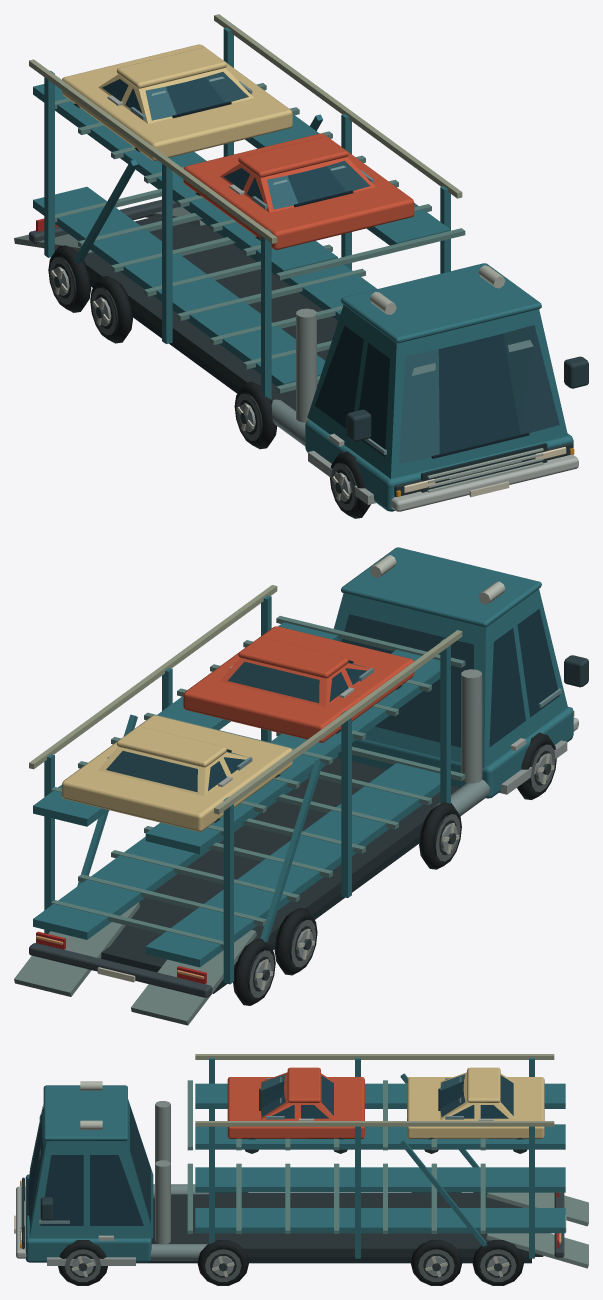
File: carrier.glb
3 renders of one model, top to bottom at view 1: azimuth 30°, elevation 25°; view 2: azimuth 150°, elevation 25°; view 3: azimuth 270°, elevation 25°, orthographic. The views are drawn at different scales.
Visible parts, largest first — view 1: carrier_body; view 2: carrier_body; view 3: carrier_body.
Part boxes in pixels (x1,y1,x2,y2): carrier_body: (14,14,588,518); carrier_body: (14,547,588,1025); carrier_body: (14,1054,588,1285).
Size of the model in its own units: 3.06 by 2.83 by 8.71.
